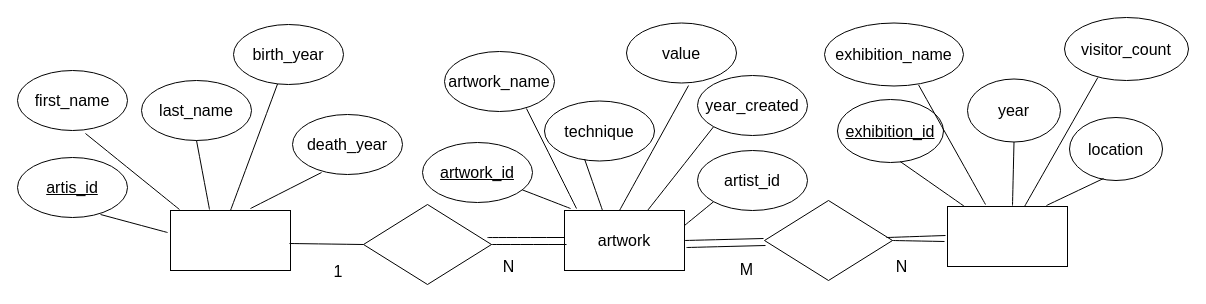
Image size: 1206x304. Some labels were removed from this diagram. The shapes that lost their labels are listed below. From the top down, each one's centre as x and y in pixels, then its label:
At [230,240]: "artist".
At [427,244]: "work".
At [828,240]: "displayed_at".
At [1007,236]: "exhibition".
